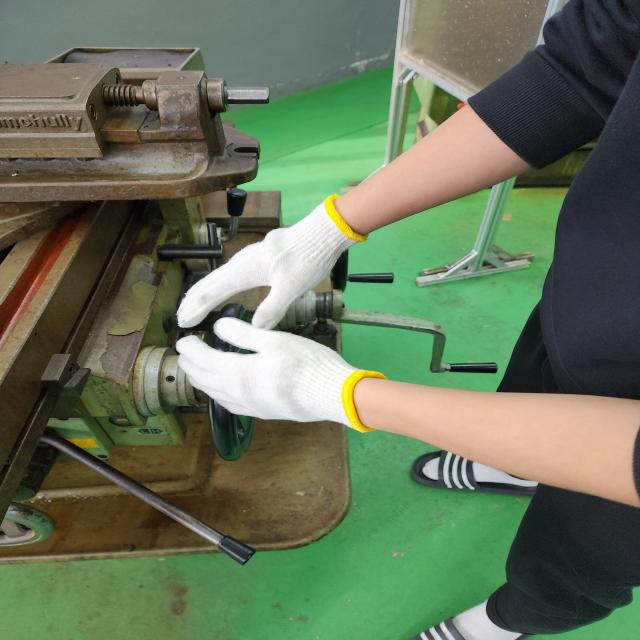Boots: (172, 319, 376, 432), (172, 193, 362, 314)
